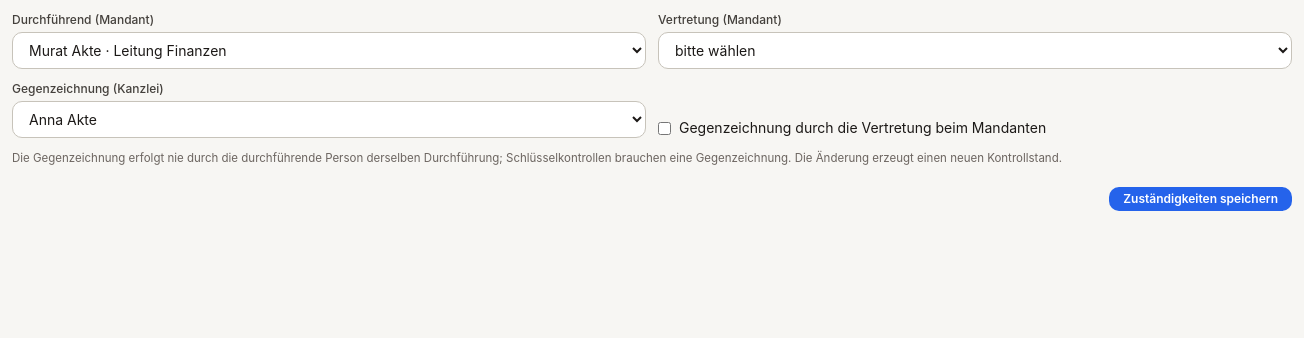
Test case: ZustaendigkeitFormular › Gegenzeichnung beim Mandanten sperrt die Kanzleiauswahl; Auswahl bleibt bei Fehlern
Select "Leon Akte · StB" in the dropdown labelled "Gegenzeichnung (Kanzlei)" at (329, 120), box [12,101,646,138]
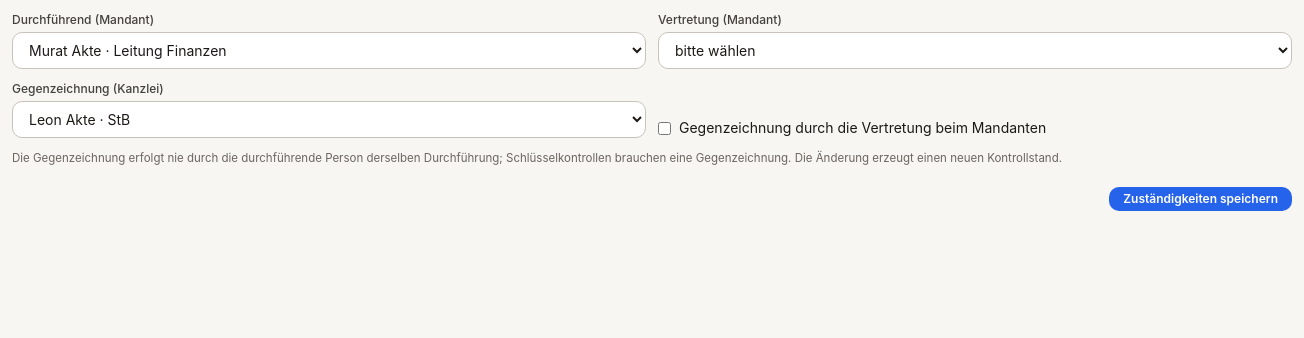
Click the checkbox labelled "Gegenzeichnung durch die Vertretung beim Mandanten" at (664, 128), box [658,122,671,134]
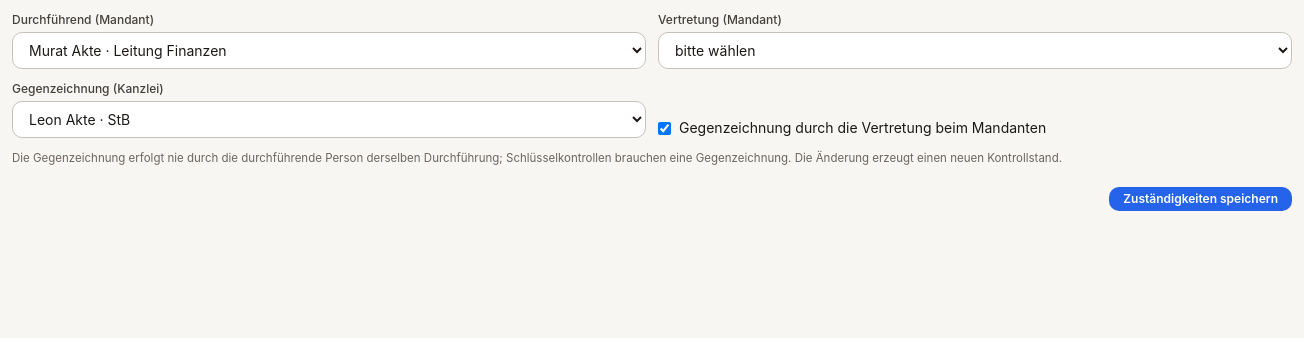
Expected: the dropdown labelled "Gegenzeichnung (Kanzlei)" is disabled, [12,101,646,138]
Click the checkbox labelled "Gegenzeichnung durch die Vertretung beim Mandanten" at (664, 128), box [658,122,671,134]
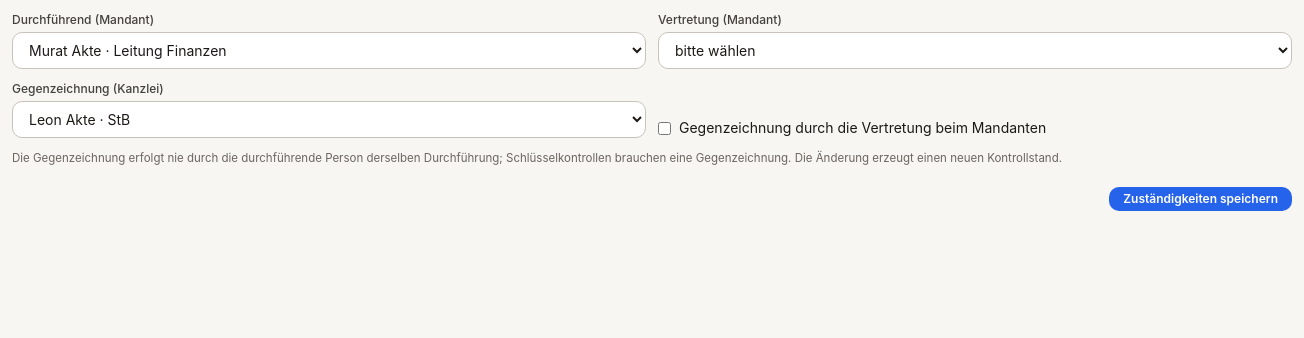
Expected: the dropdown labelled "Gegenzeichnung (Kanzlei)" is enabled, [12,101,646,138]
Submit the form named "Zuständigkeiten ändern", box [12,12,1292,211]
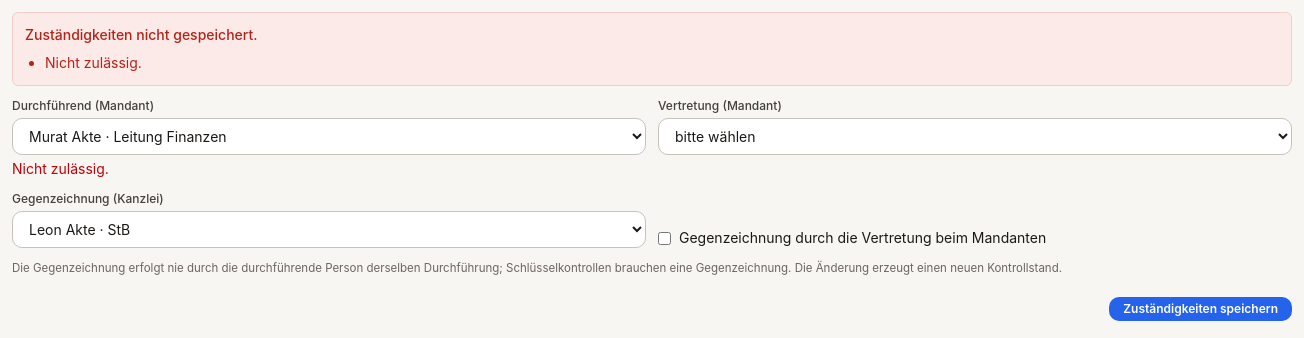
Expected: the message "Zuständigkeiten nicht gespeichert. Nicht zulässig." is shown, [12,12,1292,86]
